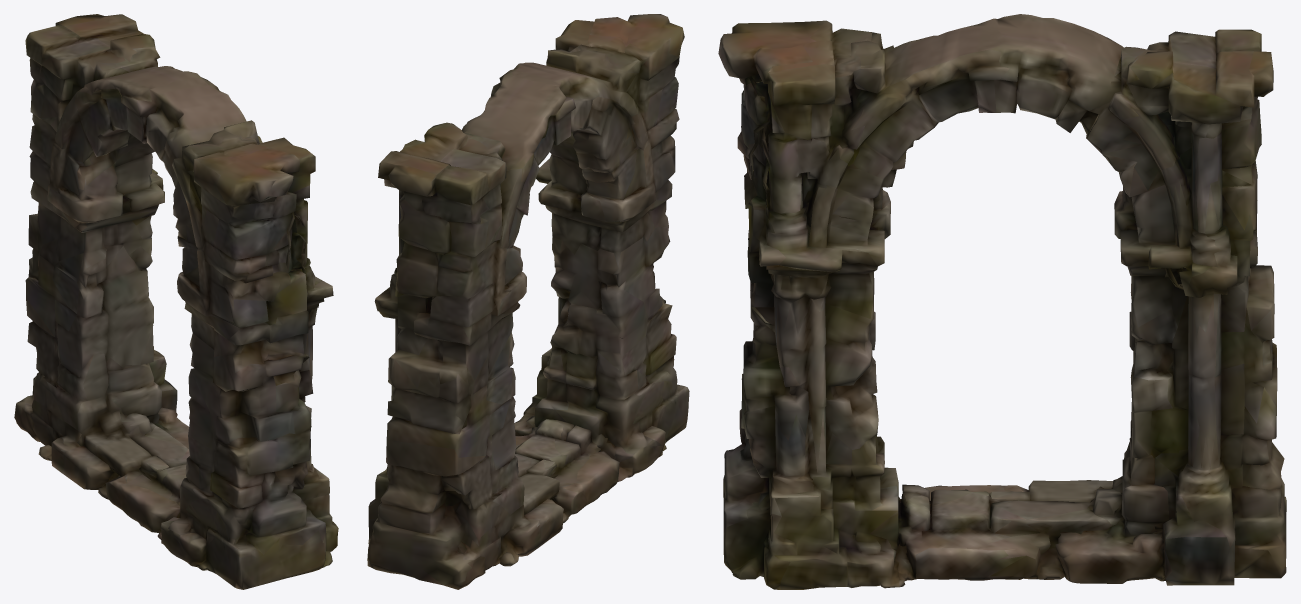
File: ruined-stone-archway.glb
The picture shows the model from 3 angles, left to right: view 1: azimuth 30°, elevation 25°; view 2: azimuth 150°, elevation 25°; view 3: azimuth 270°, elevation 25°; orthographic projection. The views are drawn at different scales.
Parts seen in each view (by area): view 1: tripo_node_867a6c5e-25b1-462e-95b1-aaca0df33ad1; view 2: tripo_node_867a6c5e-25b1-462e-95b1-aaca0df33ad1; view 3: tripo_node_867a6c5e-25b1-462e-95b1-aaca0df33ad1.
Part boxes in pixels (x1,y1,x2,y2): tripo_node_867a6c5e-25b1-462e-95b1-aaca0df33ad1: (14,14,338,589); tripo_node_867a6c5e-25b1-462e-95b1-aaca0df33ad1: (367,14,689,589); tripo_node_867a6c5e-25b1-462e-95b1-aaca0df33ad1: (718,14,1286,589).
Size of the model in its own units: 0.3323 by 0.9999 by 0.9997.
1 material, 1 textured.
